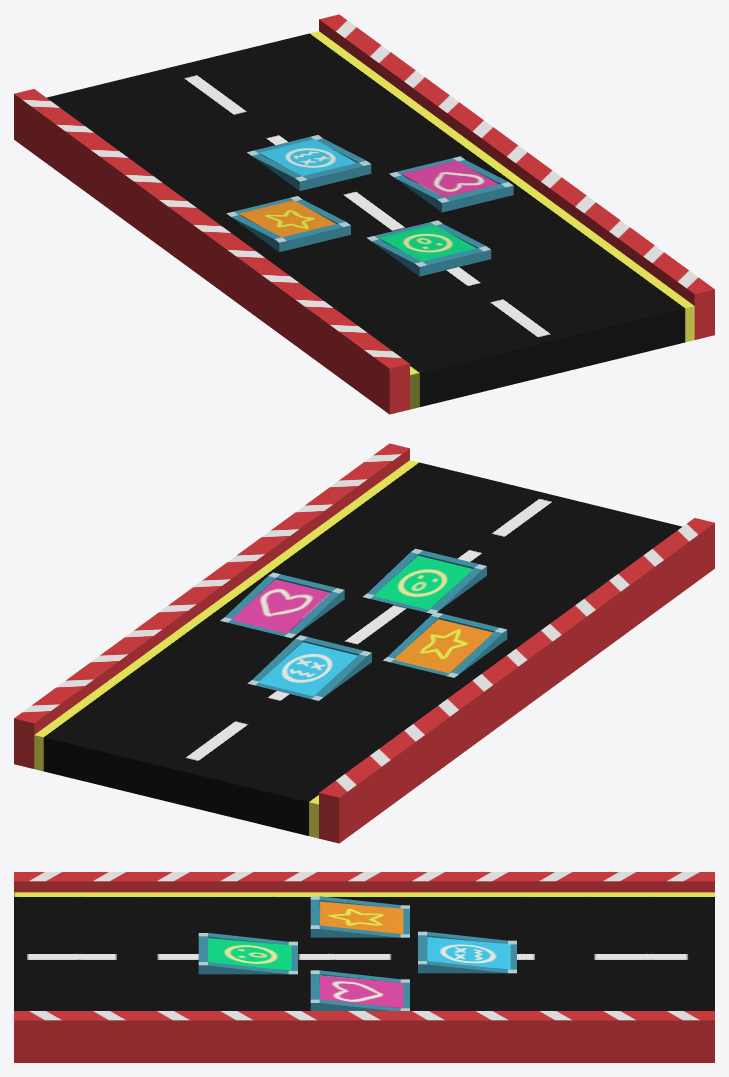
The model's file is Special track - Launcher.fbx.
The picture shows the model from 3 angles, top to bottom: view 1: azimuth 30°, elevation 25°; view 2: azimuth 150°, elevation 25°; view 3: azimuth 270°, elevation 25°; orthographic projection. The views are drawn at different scales.
Visible parts, largest first — view 1: Special track - launcher, Green flipper, Pink flipper, Orange flipper, Blue flipper; view 2: Special track - launcher, Pink flipper, Blue flipper, Green flipper, Orange flipper; view 3: Special track - launcher, Orange flipper, Pink flipper, Green flipper, Blue flipper.
Boxes of the visible parts, x1=… form: Special track - launcher: x1=14, y1=14, x2=714, y2=414; Green flipper: x1=379, y1=224, x2=476, y2=261; Pink flipper: x1=401, y1=160, x2=498, y2=197; Orange flipper: x1=238, y1=200, x2=335, y2=237; Blue flipper: x1=259, y1=139, x2=356, y2=175; Special track - launcher: x1=14, y1=443, x2=714, y2=843; Pink flipper: x1=231, y1=579, x2=330, y2=633; Blue flipper: x1=258, y1=642, x2=357, y2=696; Green flipper: x1=373, y1=555, x2=472, y2=609; Orange flipper: x1=394, y1=619, x2=492, y2=672; Special track - launcher: x1=14, y1=872, x2=714, y2=1062; Orange flipper: x1=320, y1=901, x2=403, y2=934; Pink flipper: x1=320, y1=975, x2=403, y2=1008; Green flipper: x1=208, y1=938, x2=291, y2=970; Blue flipper: x1=427, y1=937, x2=510, y2=969.
Size of the model in its own units: 50 by 6.73 by 100.
